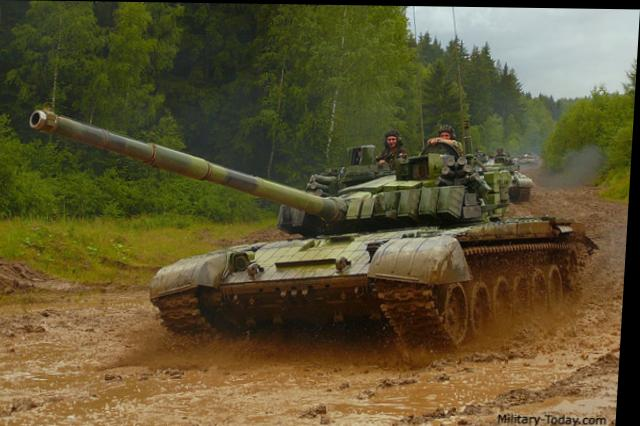other: (376, 125, 409, 163), (433, 123, 461, 145)
tank: (162, 140, 585, 320)
